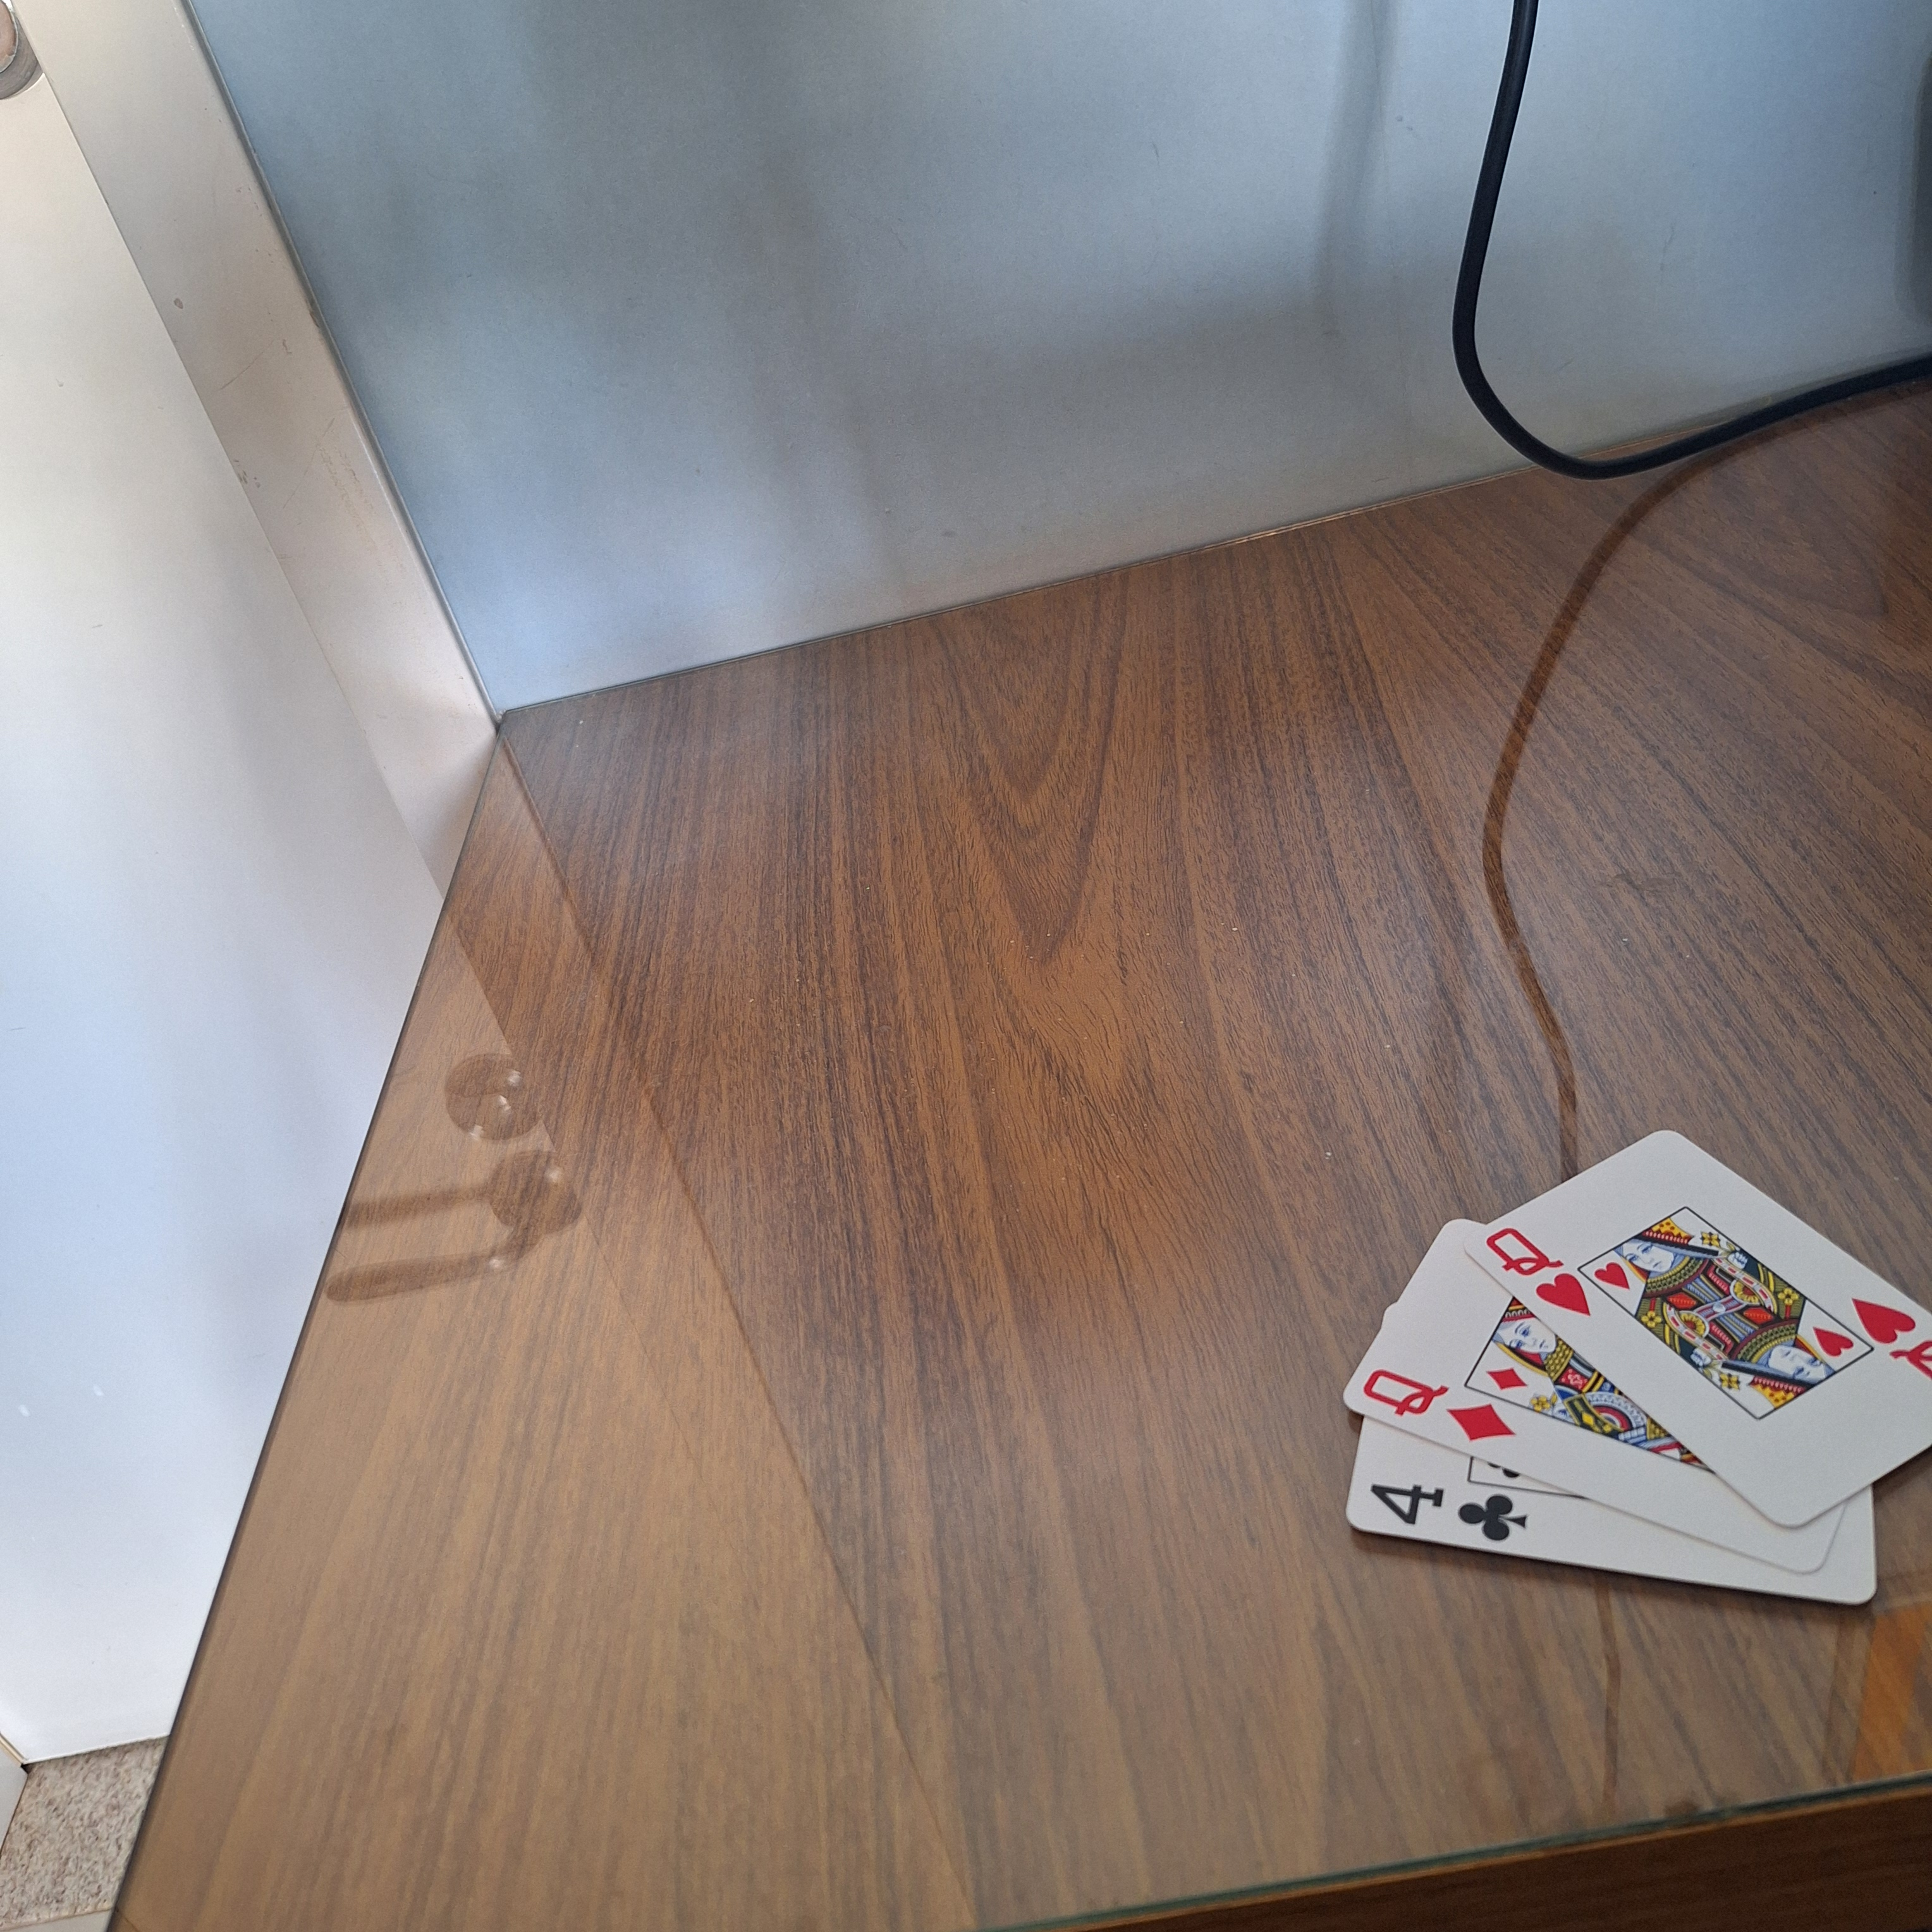4P: (1353, 1468, 1537, 1562)
QC: (1476, 1212, 1601, 1320)
QO: (1352, 1353, 1516, 1458)
